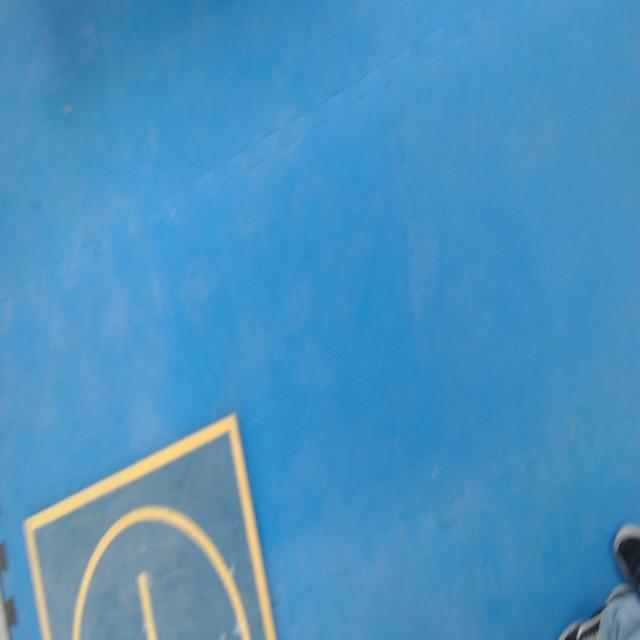base_pouso: (22, 411, 280, 639)
